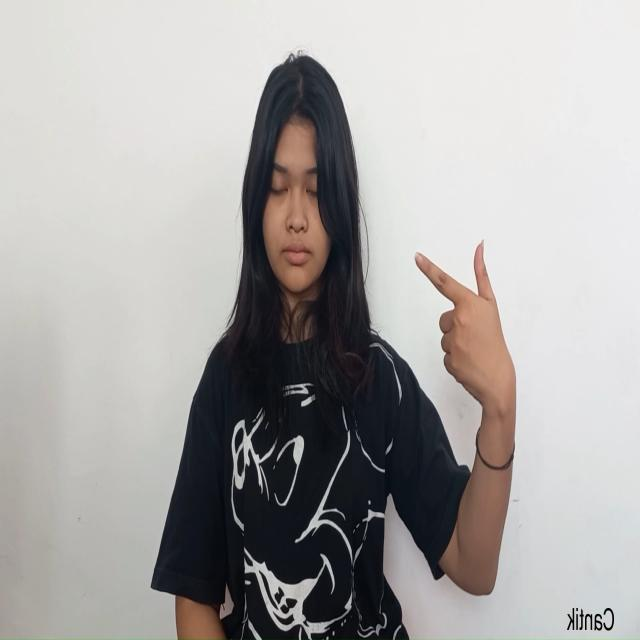Cantik -BISINDO-: (413, 235, 518, 432)
